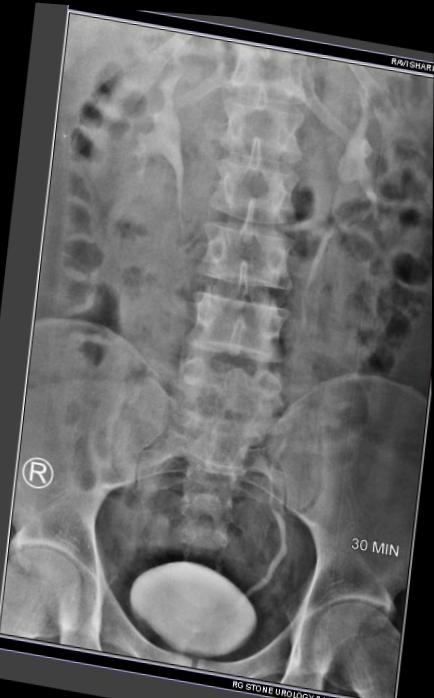bladder: (80, 557, 268, 697)
left kidney: (318, 48, 433, 217)
right kidney: (40, 16, 182, 201)
vertebrae: (193, 63, 300, 145)
